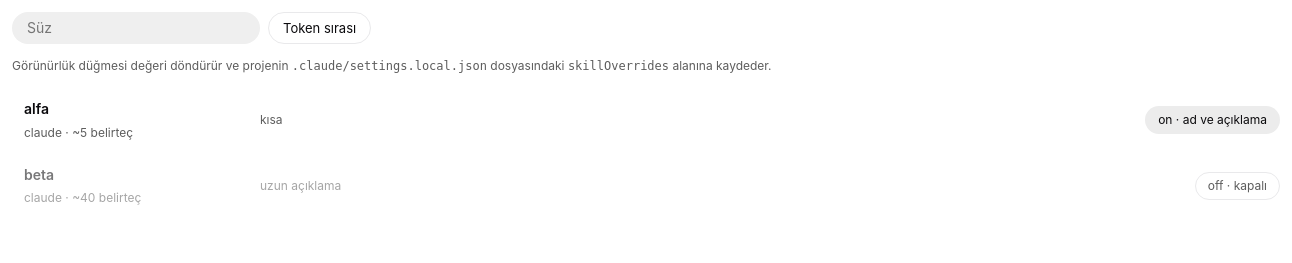
Test: SkillVisibilityPanel (#176) › görünürlük düğmesi döndürür, kaydeder ve satırı günceller
Click the button with aria-label "alfa görünürlüğü: on" at (1213, 120), box top-left (1145, 106), bottom-right (1280, 134)
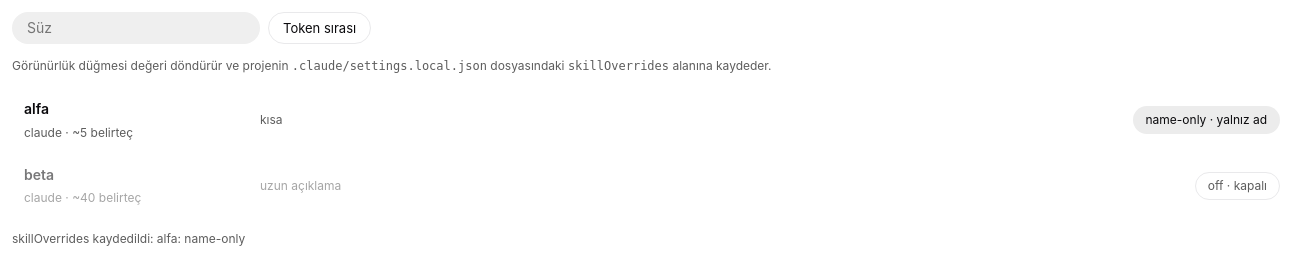
expect the text "skillOverrides kaydedildi: alfa: name-only" is shown: met, box top-left (12, 231), bottom-right (245, 246)
expect the button with aria-label "alfa görünürlüğü: name-only" is shown: met, box top-left (1132, 106), bottom-right (1280, 134)
